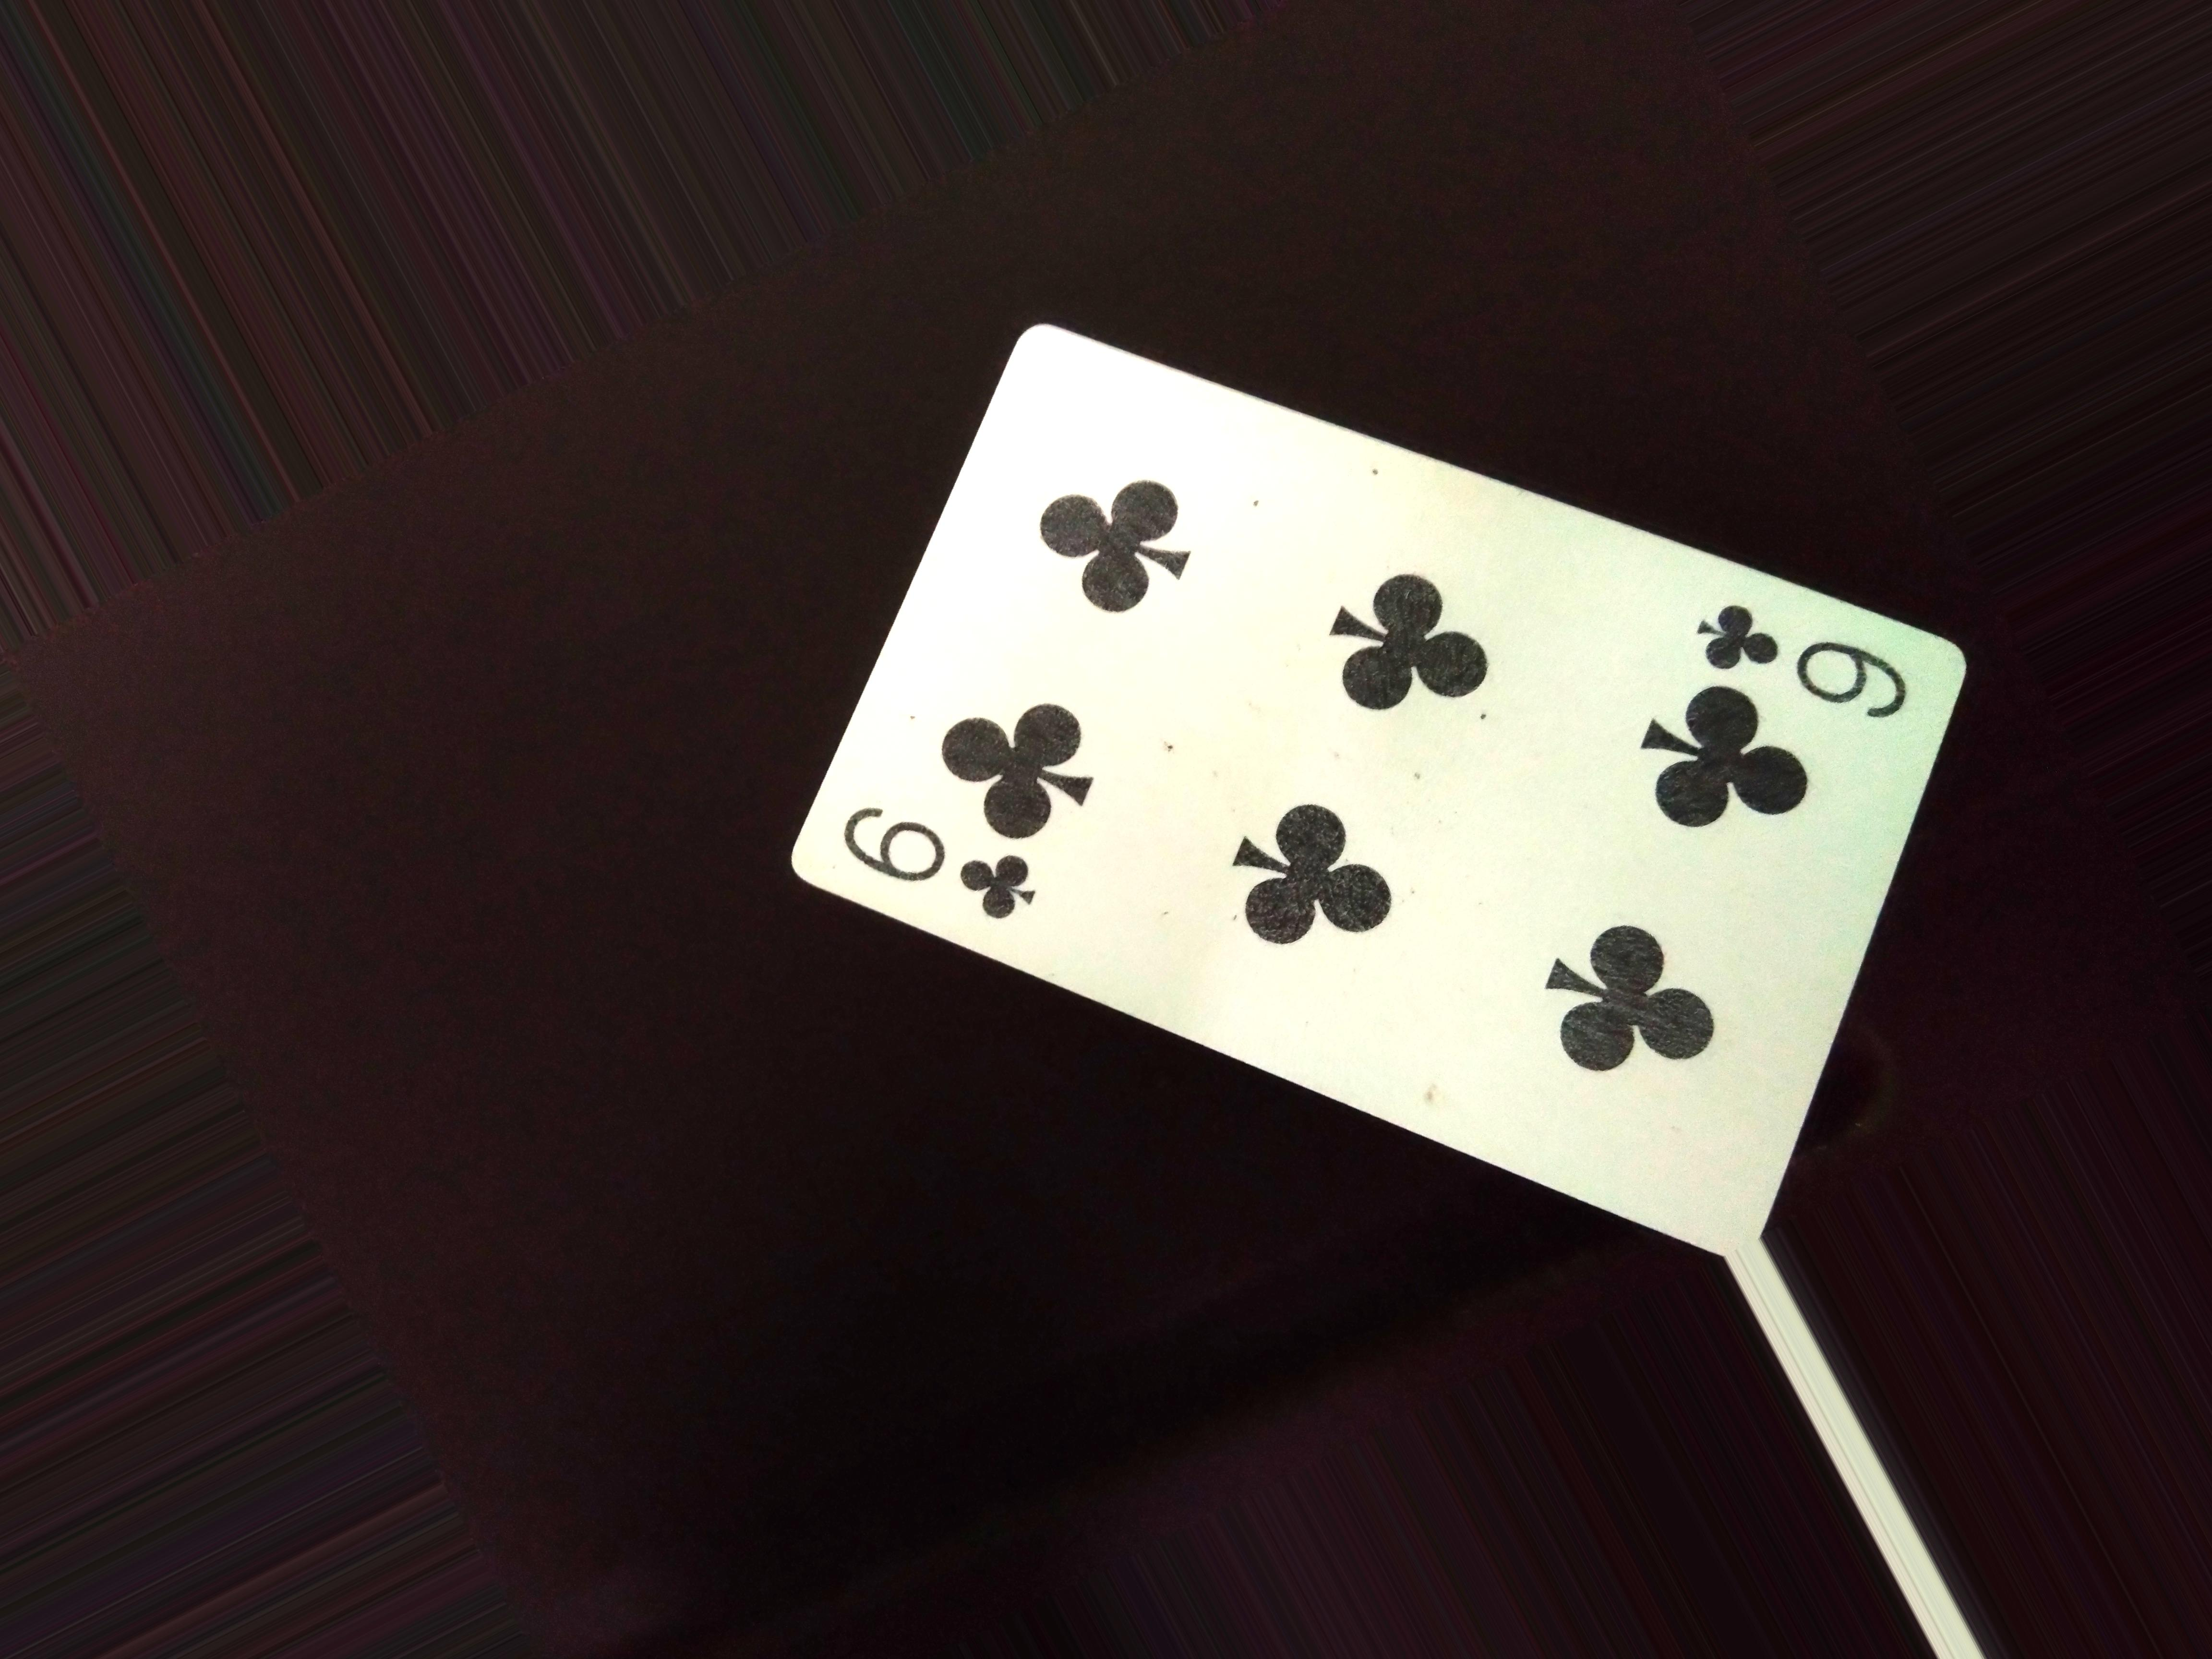6C: (1683, 582, 1919, 737)
